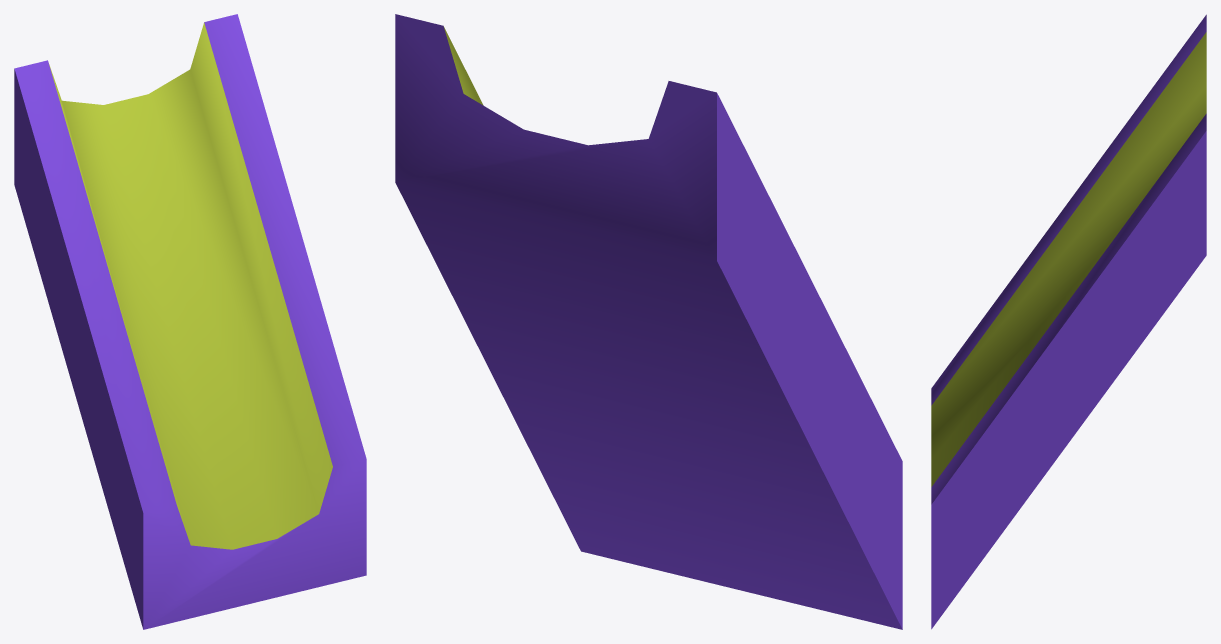
File: slant_D-col.dae
3 views of the same model, side by side, from view 1: azimuth 30°, elevation 25°; view 2: azimuth 150°, elevation 25°; view 3: azimuth 270°, elevation 25° (orthographic). The views are drawn at different scales.
Visible parts, largest first — view 1: slant_D-col; view 2: slant_D-col; view 3: slant_D-col.
Part boxes in pixels (box(x1,y1,x2,y2)): slant_D-col: box(14, 14, 366, 629); slant_D-col: box(395, 14, 902, 629); slant_D-col: box(931, 14, 1206, 629).
Bounding box in the file's own units: 1 × 1 × 2.
